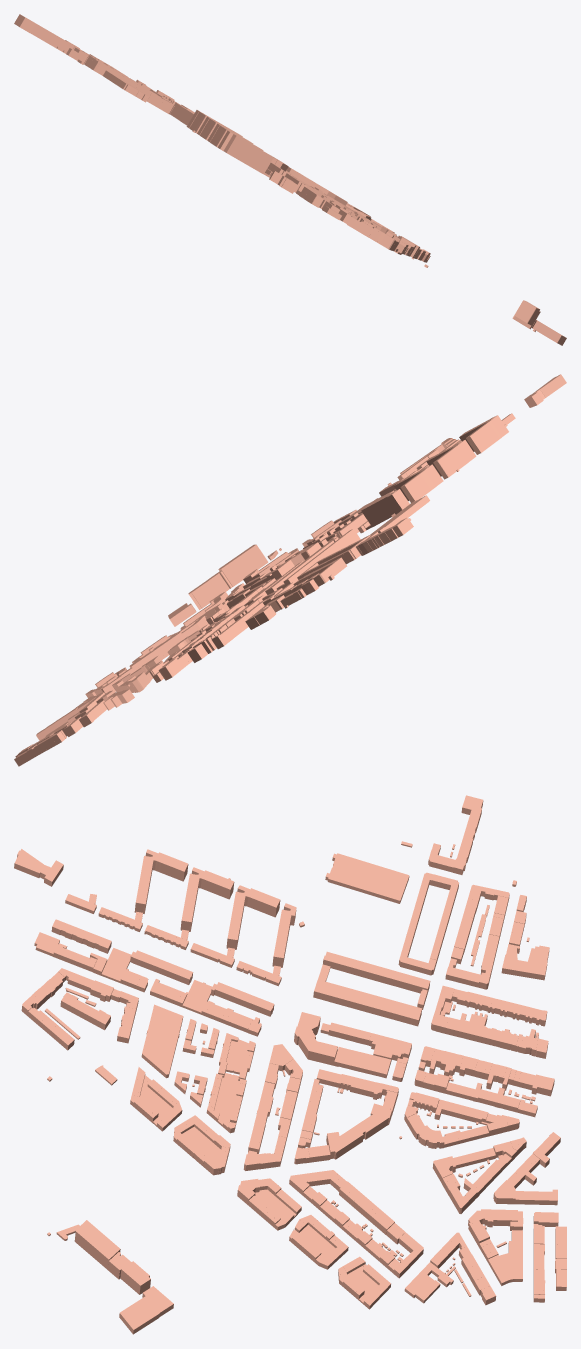
3 views of the same model, one above another, from view 1: azimuth 30°, elevation 25°; view 2: azimuth 150°, elevation 25°; view 3: azimuth 270°, elevation 25° (orthographic). The views are drawn at different scales.
Size of the model in its own units: 572 by 429 by 639.
